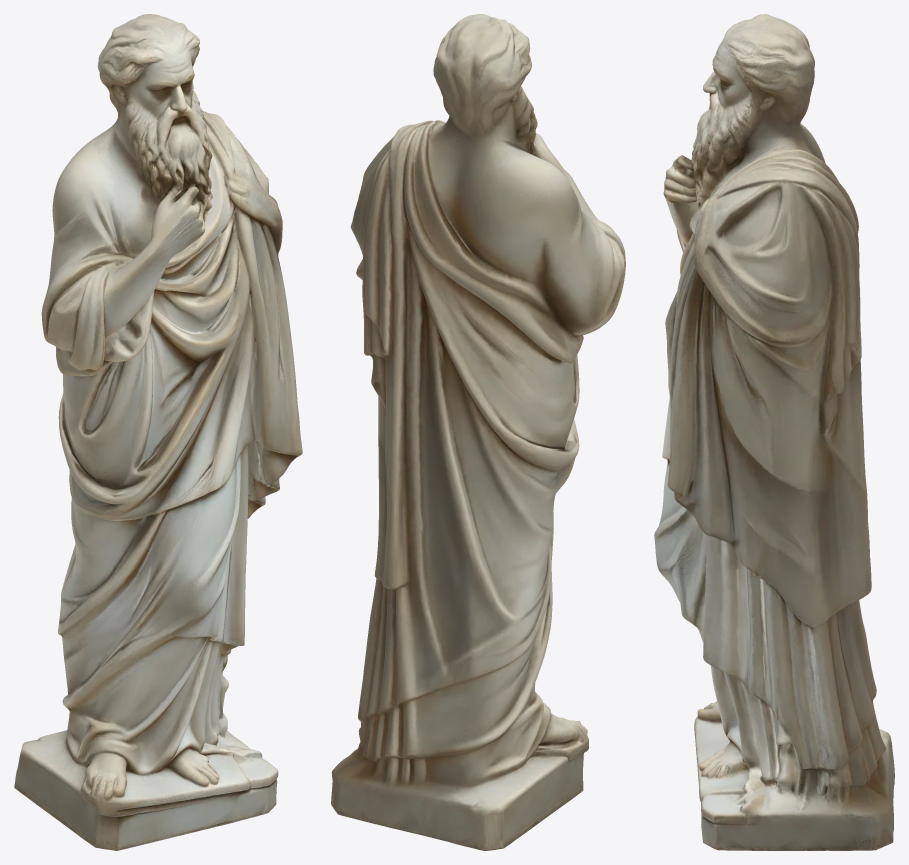
File: 3D_socrates_small.glb
3 renders of one model, left to right at view 1: azimuth 30°, elevation 25°; view 2: azimuth 150°, elevation 25°; view 3: azimuth 270°, elevation 25°, orthographic. The views are drawn at different scales.
Size of the model in its own units: 0.6086 by 1.9 by 0.5303.
1 material, 1 textured.
